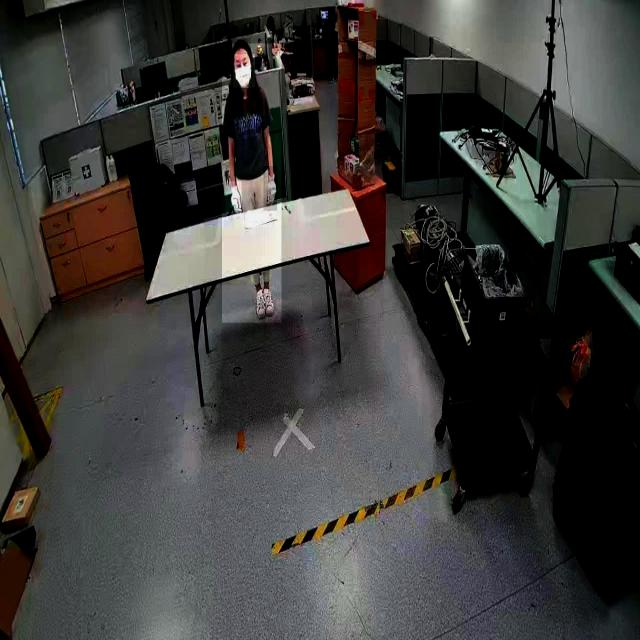face_mask: (233, 54, 255, 89)
hand_glove: (264, 166, 278, 212), (226, 182, 242, 214)
head_nohelmet: (231, 38, 251, 52)
person: (222, 44, 282, 324)
shoes: (261, 286, 276, 318), (252, 286, 266, 320)
